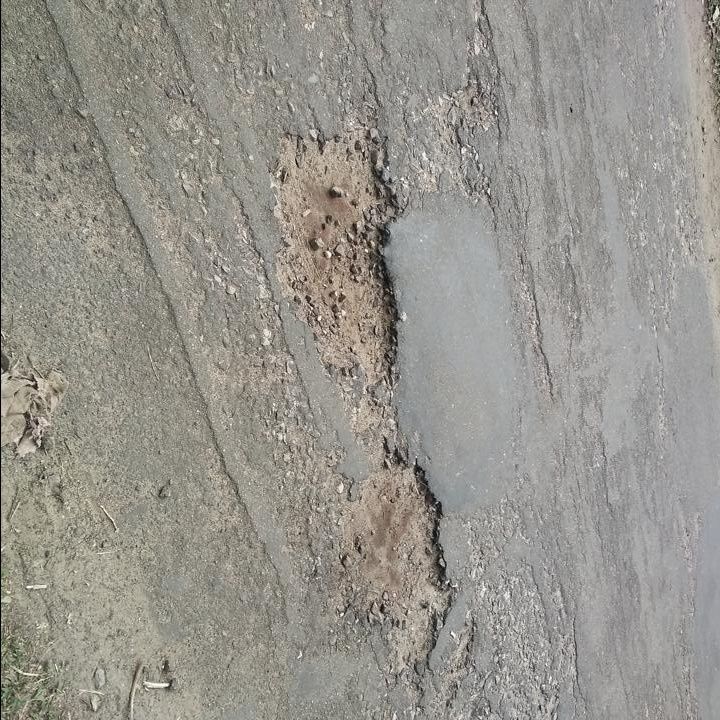pothole: (268, 120, 406, 411), (335, 440, 458, 684)
